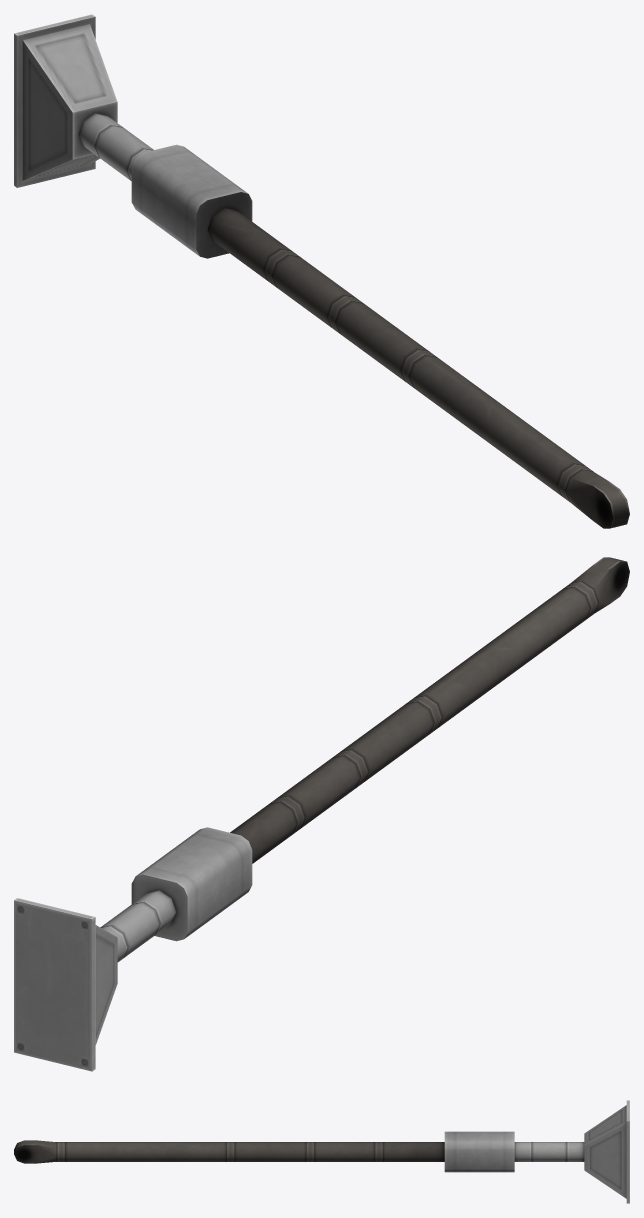
The model's file is sar mast.obj.
The picture shows the model from 3 angles, top to bottom: view 1: azimuth 30°, elevation 25°; view 2: azimuth 150°, elevation 25°; view 3: azimuth 270°, elevation 25°; orthographic projection. The views are drawn at different scales.
Visible parts, largest first — view 1: 2; view 2: 2; view 3: 2.
Part boxes in pixels (bbox=[...]): 2: bbox=[14, 14, 629, 528]; 2: bbox=[14, 557, 629, 1071]; 2: bbox=[14, 1100, 629, 1203].
Size of the model in its own units: 0.175 by 0.325 by 2.2.
1 material, 1 textured.
